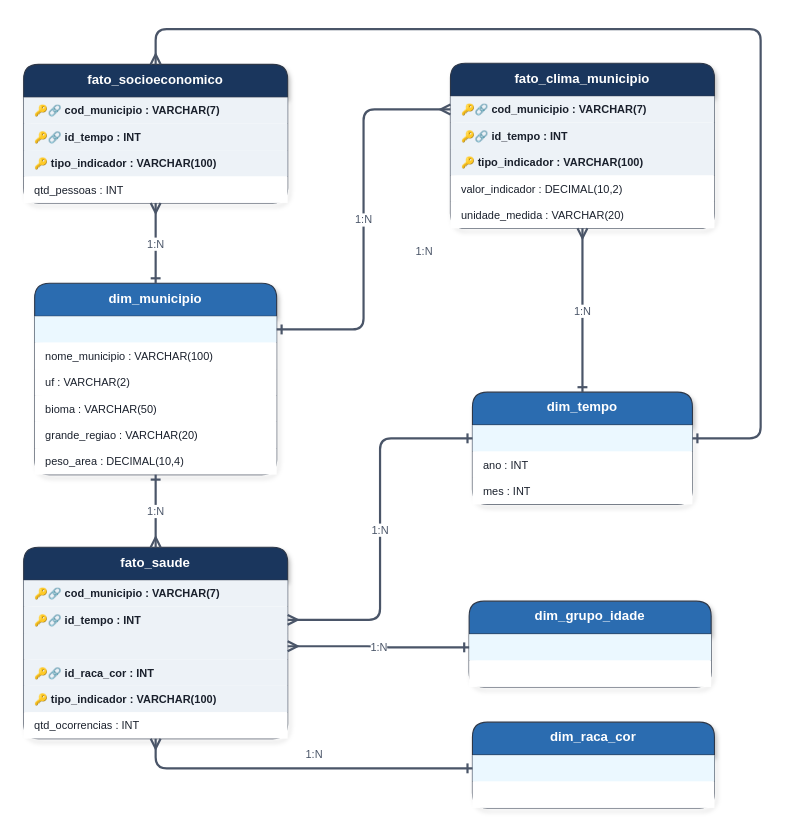
Image size: 791x835. Some labels were removed from this diagram. Each missing label, with the centre of its shape:
"grupo_idade : VARCHAR(20)" goes at [590,673].
"raca_cor : VARCHAR(20)" goes at [593,794].
"🔑 cod_municipio : VARCHAR(7)" goes at [155,329].
"🔑 id_grupo_idade : INT" goes at [590,647].
"🔑 id_raca_cor : INT" goes at [593,768].
"🔑 id_tempo : INT (YYYYMM)" goes at [582,438].
"🔑🔗 id_grupo_idade : INT" goes at [155,645].
